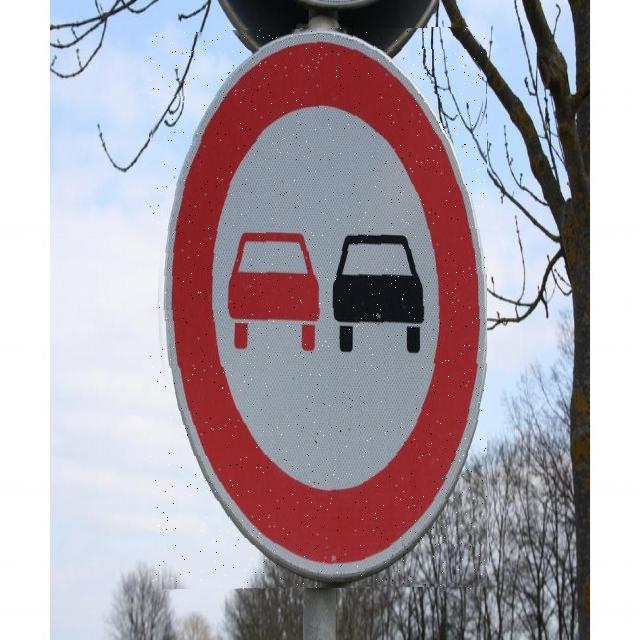no overtaking: (150, 28, 487, 589)
